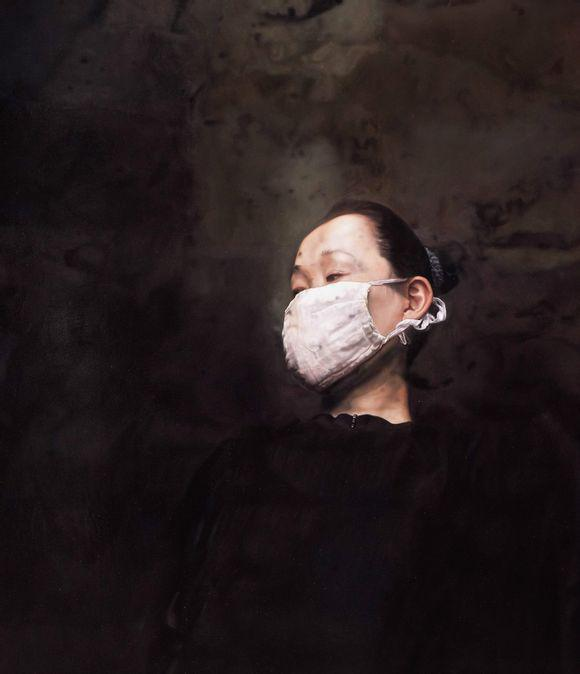OK: (275, 250, 409, 386)
